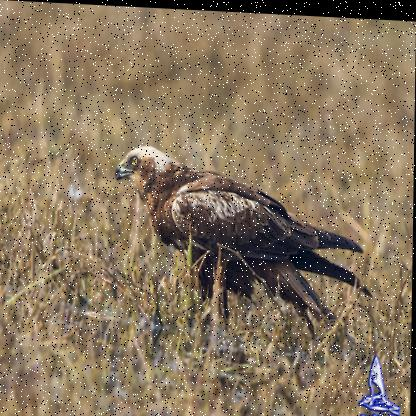Burung: (110, 139, 368, 351)
